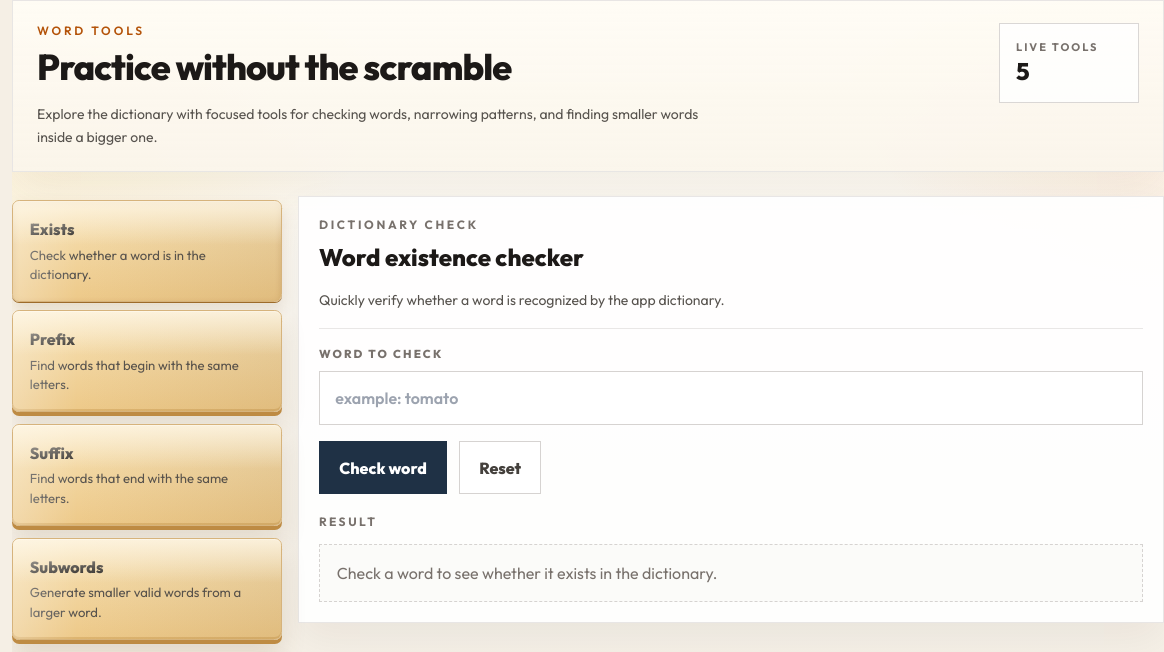
Test: WordTools.vue › renders fetched prefix results
The width and height of the screenshot is (1164, 652).
Click the button with class "tool-rail-button" that starts with "Prefix".
click(147, 361)  # box [12, 310, 282, 412]
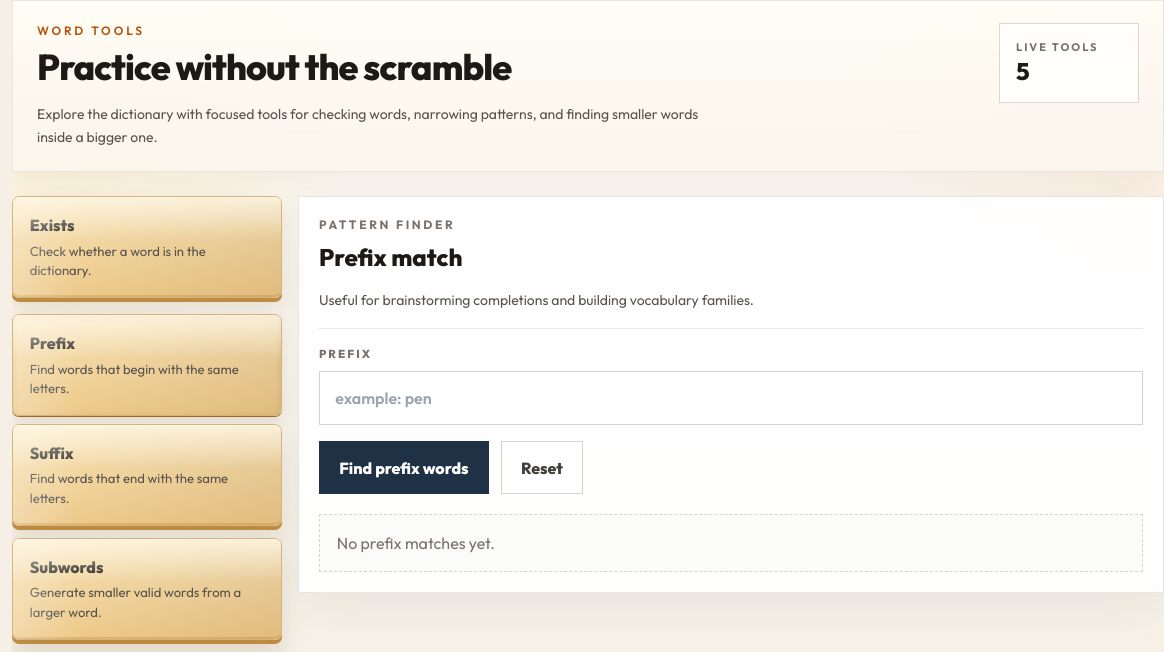
Type "pen" into the field labelled "Prefix".
click(731, 398); type("pen")  # box [319, 371, 1143, 425]
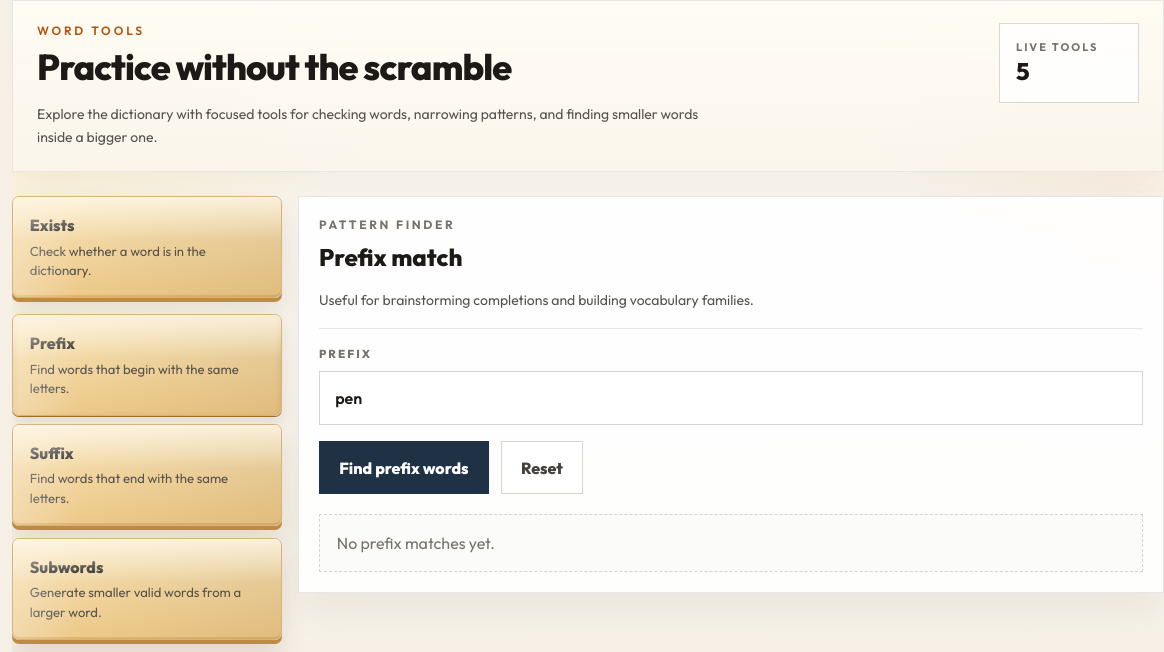
Submit the form, box [319, 345, 1143, 494]
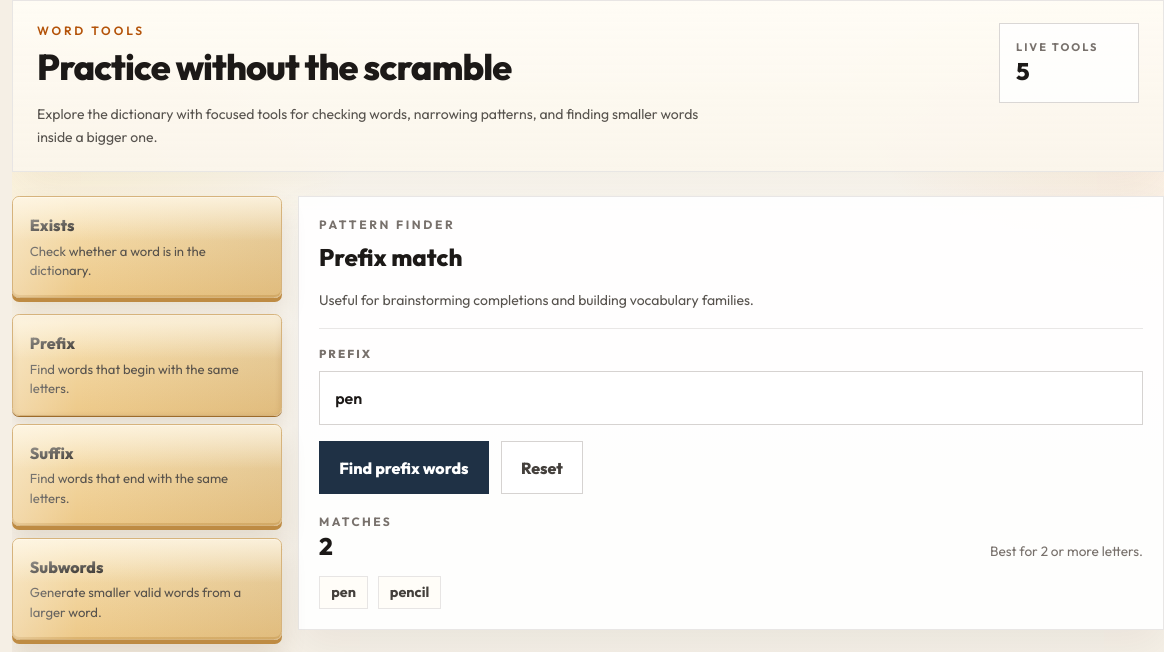
Expected: the text "2" is shown, [319, 531, 333, 561]
Expected: the text "pencil" is shown, [378, 576, 441, 609]
